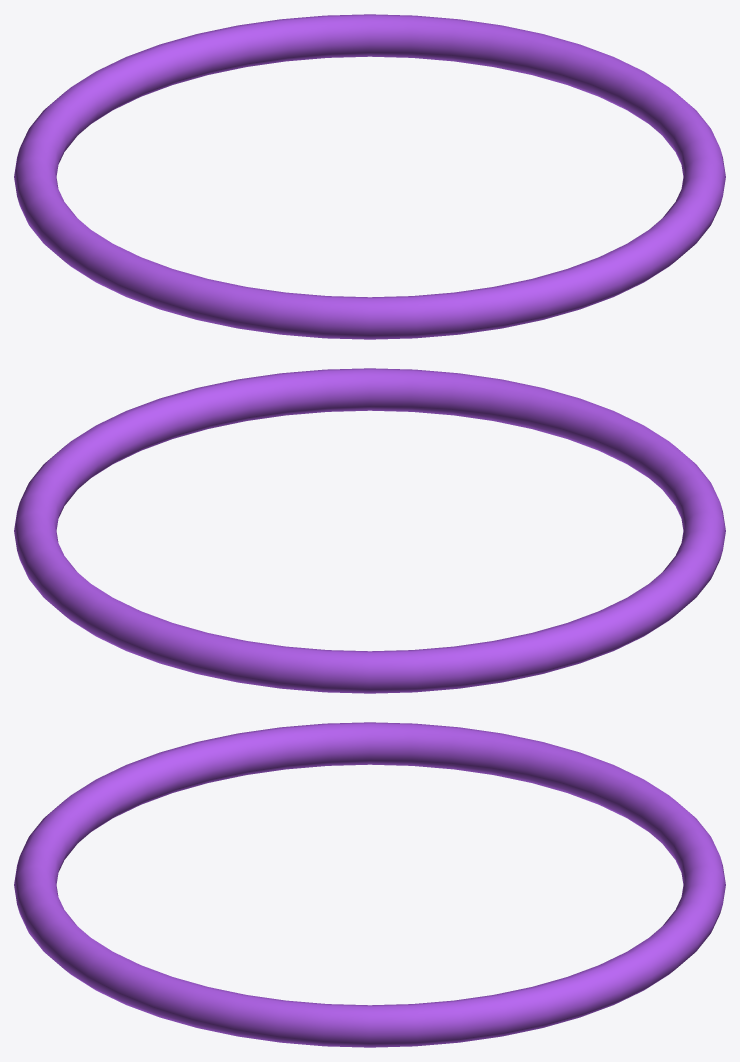
The model's file is obelisk_halo.fbx.
3 views of the same model, one above another, from view 1: azimuth 30°, elevation 25°; view 2: azimuth 150°, elevation 25°; view 3: azimuth 270°, elevation 25° (orthographic).
Parts seen in each view (by area): view 1: part_halo; view 2: part_halo; view 3: part_halo.
Boxes of the visible parts, x1,y1,x2,y2 form: part_halo: (14, 14, 725, 339); part_halo: (14, 368, 725, 693); part_halo: (14, 722, 725, 1047).
Size of the model in its own units: 1 by 0.0601 by 1.
